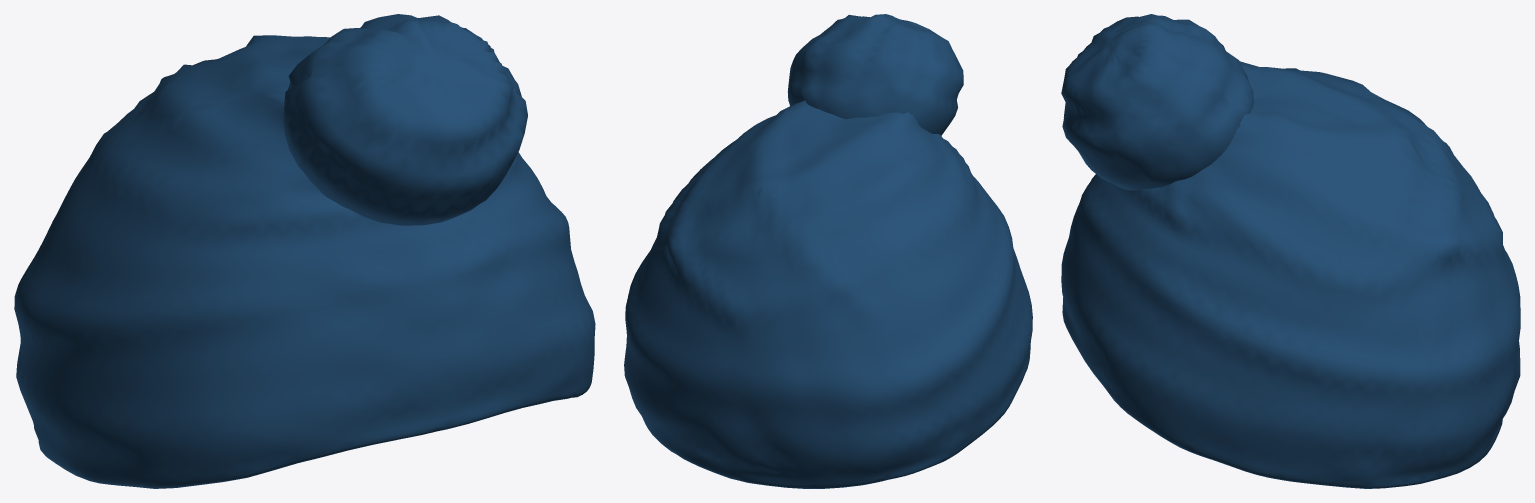
Rendered from PatkaA-Ep3.fbx.
3 views of the same model, side by side, from view 1: azimuth 30°, elevation 25°; view 2: azimuth 150°, elevation 25°; view 3: azimuth 270°, elevation 25° (orthographic). The views are drawn at different scales.
Parts seen in each view (by area): view 1: PatkaA; view 2: PatkaA; view 3: PatkaA.
Boxes of the visible parts, <box> form: PatkaA: <box>14,14,595,488</box>; PatkaA: <box>624,14,1032,488</box>; PatkaA: <box>1061,14,1520,488</box>.
Size of the model in its own units: 461 by 452 by 464.
